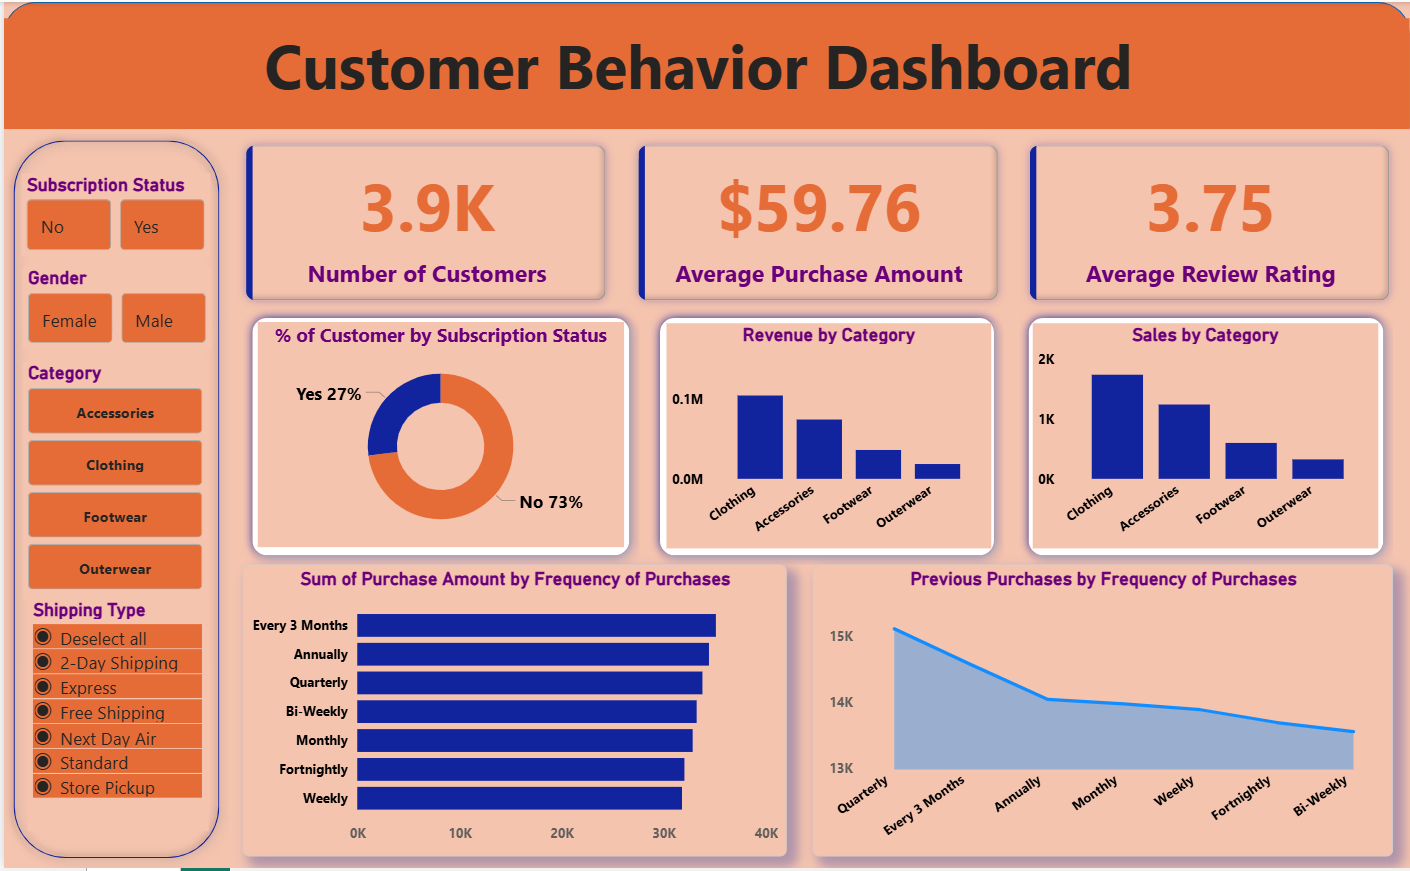

This screenshot's page, from the dashboard's own definition file:
{"tool":"powerbi","page":{"name":"Page 1","canvas":[1299,800],"ordinal":0},"visuals":[{"type":"cardVisual","fields":{"Data":["customer_shopping_behavior.Number of Customers","customer_shopping_behavior.Average Purchase Amount","customer_shopping_behavior.Average Review Rating"]},"box":[207.9,117.1,1090.8,175.7],"z":0},{"type":"shape","box":[0,0,1298.7,117.1],"z":1000},{"type":"textbox","box":[0,14.6,1298.7,102.5],"z":2000},{"type":"shape","box":[221.1,282.6,366,237.2],"z":3000},{"type":"donutChart","title":"% of Customer by Subscription Status","fields":{"Category":["customer_shopping_behavior.Subscription Status"],"Y":["CountNonNull(customer_shopping_behavior.Customer ID)"]},"box":[234.3,295.8,338.2,207.9],"z":4000},{"type":"shape","box":[597.4,282.6,326.5,237.2],"z":5000},{"type":"shape","box":[937.1,282.6,345.5,237.2],"z":6000},{"type":"clusteredColumnChart","title":"Revenue by Category","fields":{"Y":["Sum(customer_shopping_behavior.Purchase Amount (USD))"],"Category":["customer_shopping_behavior.Category"]},"box":[612,297.2,300.2,207.9],"z":7000},{"type":"clusteredColumnChart","title":"Sales by Category","fields":{"Y":["CountNonNull(customer_shopping_behavior.Customer ID)"],"Category":["customer_shopping_behavior.Category"]},"box":[950.3,297.2,319.2,207.9],"z":8000},{"type":"shape","box":[0,118.6,207.9,680.8],"z":9000},{"type":"advancedSlicerVisual","fields":{"Values":["customer_shopping_behavior.Subscription Status"]},"box":[15.9,158.7,174.6,76.5],"z":10000},{"type":"advancedSlicerVisual","fields":{"Values":["customer_shopping_behavior.Gender"]},"box":[17.6,244.5,174.2,76.1],"z":11000},{"type":"advancedSlicerVisual","fields":{"Values":["customer_shopping_behavior.Category"]},"box":[17.6,332.4,171.3,218.2],"z":12000},{"type":"listSlicer","fields":{"Values":["customer_shopping_behavior.Shipping Type"]},"box":[22,550.5,166.9,215.2],"z":12001},{"type":"clusteredBarChart","title":"Sum of Purchase Amount  by Frequency of Purchases","fields":{"Y":["Sum(customer_shopping_behavior.Purchase Amount (USD))"],"Category":["customer_shopping_behavior.Frequency of Purchases"]},"box":[221.1,519.8,502.2,269.4],"z":12002},{"type":"areaChart","title":" Previous Purchases  by Frequency of Purchases","fields":{"Category":["customer_shopping_behavior.Frequency of Purchases"],"Y":["Sum(customer_shopping_behavior.Previous Purchases)"]},"box":[746.7,519.8,535.9,269.4],"z":12003}]}

Visuals, with their boxes in screenshot pixels (x1, y1, x2, y2), scaled from the page's 1299x800 canvas onto the 1410x871 screenshot:
cardVisual - customer_shopping_behavior.Number of Customers x customer_shopping_behavior.Average Purchase Amount: <region>226, 127, 1409, 319</region>
shape: <region>0, 0, 1409, 127</region>
textbox: <region>0, 16, 1409, 127</region>
shape: <region>240, 308, 637, 566</region>
"% of Customer by Subscription Status" donutChart: <region>254, 322, 621, 548</region>
shape: <region>648, 308, 1003, 566</region>
shape: <region>1017, 308, 1392, 566</region>
"Revenue by Category" clusteredColumnChart: <region>664, 324, 990, 550</region>
"Sales by Category" clusteredColumnChart: <region>1032, 324, 1378, 550</region>
shape: <region>0, 129, 226, 870</region>
advancedSlicerVisual - customer_shopping_behavior.Subscription Status: <region>17, 173, 207, 256</region>
advancedSlicerVisual - customer_shopping_behavior.Gender: <region>19, 266, 208, 349</region>
advancedSlicerVisual - customer_shopping_behavior.Category: <region>19, 362, 205, 599</region>
listSlicer - customer_shopping_behavior.Shipping Type: <region>24, 599, 205, 834</region>
"Sum of Purchase Amount  by Frequency of Purchases" clusteredBarChart: <region>240, 566, 785, 859</region>
" Previous Purchases  by Frequency of Purchases" areaChart: <region>811, 566, 1392, 859</region>
